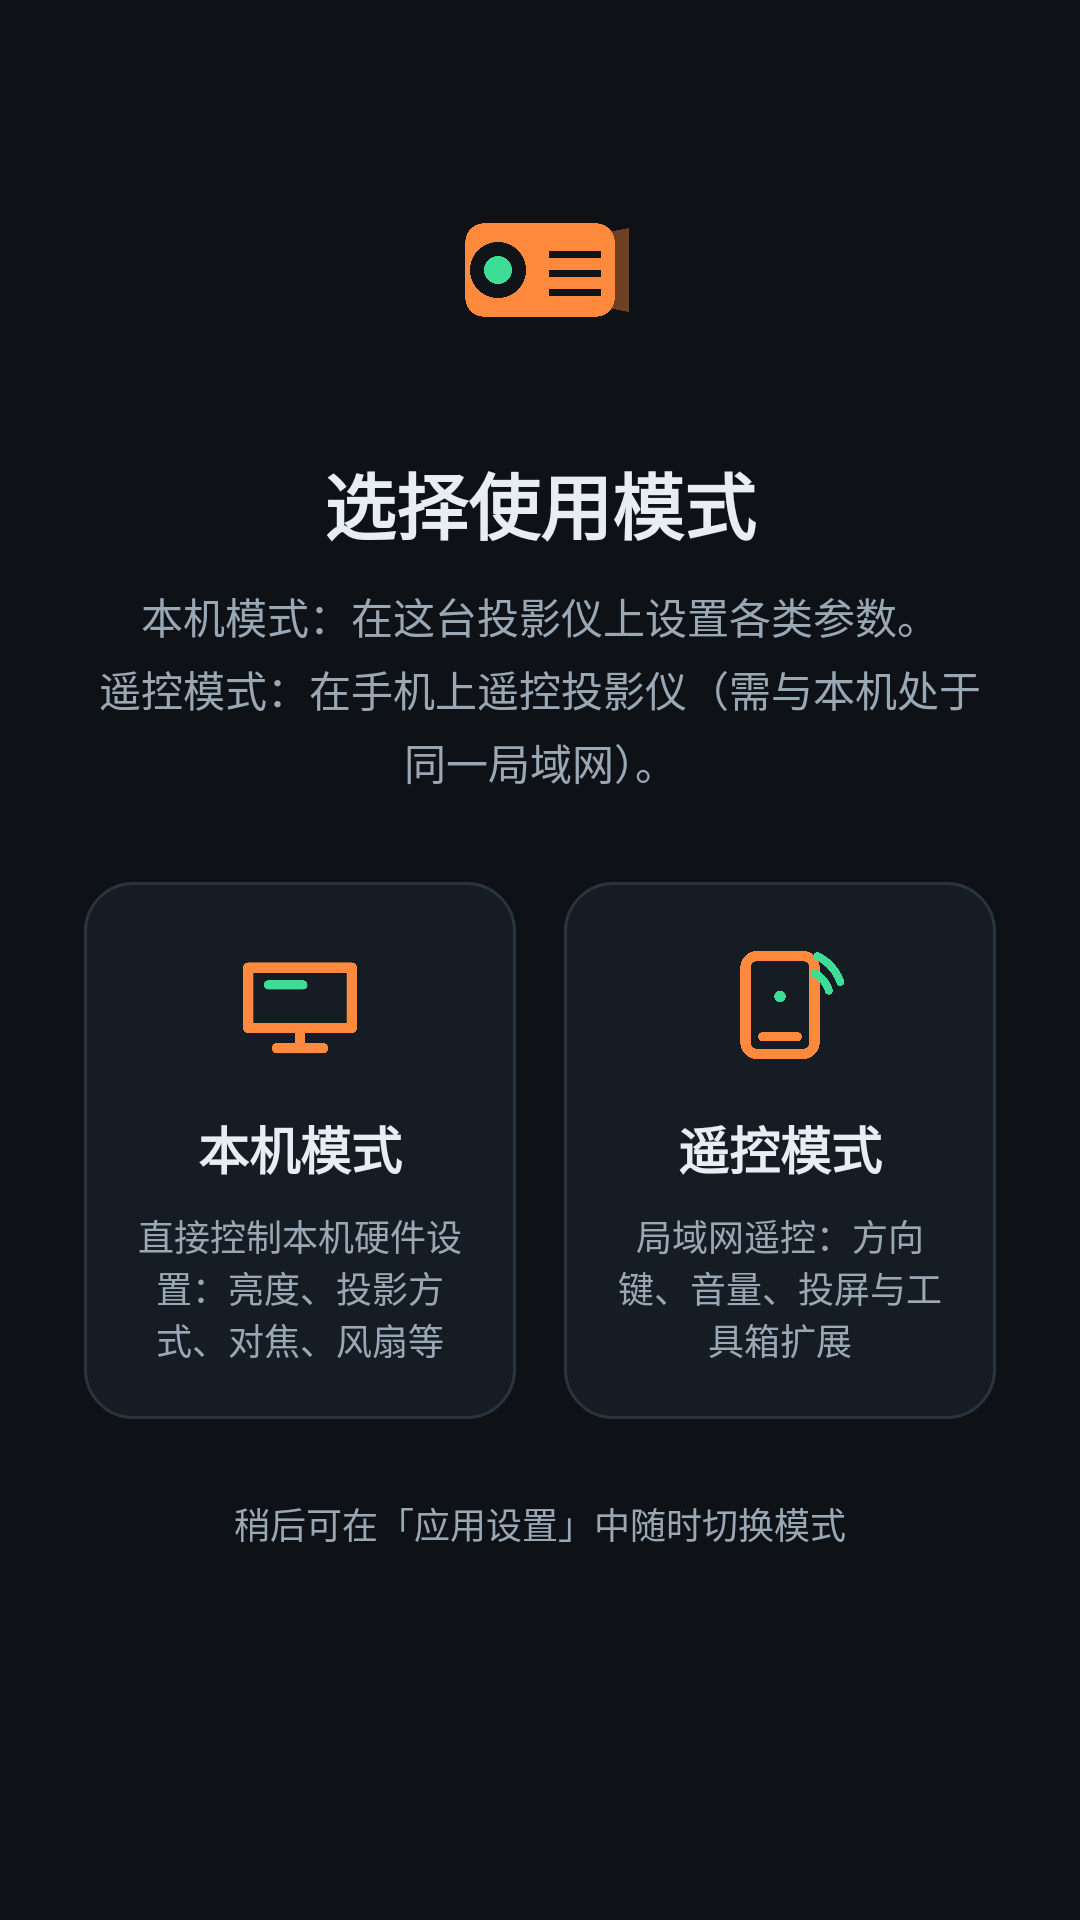

Locate icon controls on the screen. Image size 1080x1920, boxes as (x1, y1, x2, y2).
local: (243, 962, 357, 1054)
remote: (740, 951, 844, 1059)
